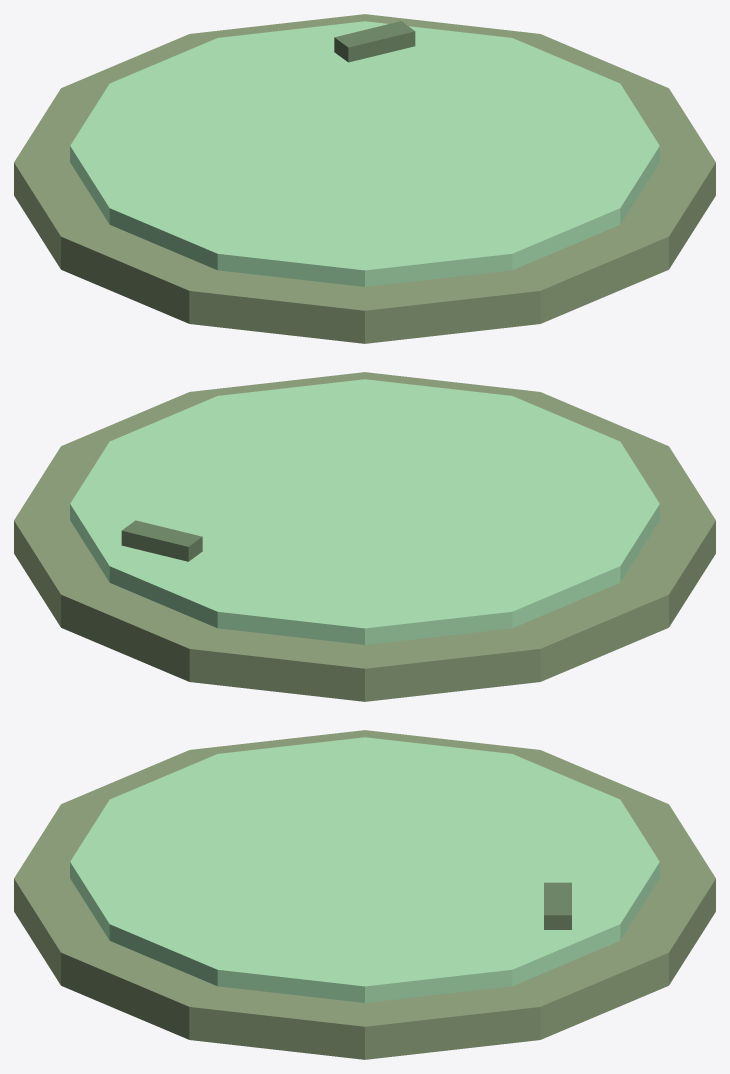
The model's file is ground_disc_outer.glb.
The picture shows the model from 3 angles, top to bottom: view 1: azimuth 30°, elevation 25°; view 2: azimuth 150°, elevation 25°; view 3: azimuth 270°, elevation 25°; orthographic projection.
Visible parts, largest first — view 1: grass_top, soil_patch, edge_notch; view 2: grass_top, soil_patch, edge_notch; view 3: grass_top, soil_patch, edge_notch.
Part boxes in pixels (left/top/right/bottom): grass_top: left=70, top=21, right=659, bottom=286; soil_patch: left=14, top=14, right=715, bottom=343; edge_notch: left=334, top=21, right=415, bottom=62; grass_top: left=70, top=379, right=659, bottom=644; soil_patch: left=14, top=372, right=715, bottom=701; edge_notch: left=121, top=520, right=202, bottom=561; grass_top: left=70, top=737, right=659, bottom=1002; soil_patch: left=14, top=730, right=715, bottom=1059; edge_notch: left=544, top=882, right=571, bottom=929.
Size of the model in its own units: 0.96 by 0.0975 by 0.96.
